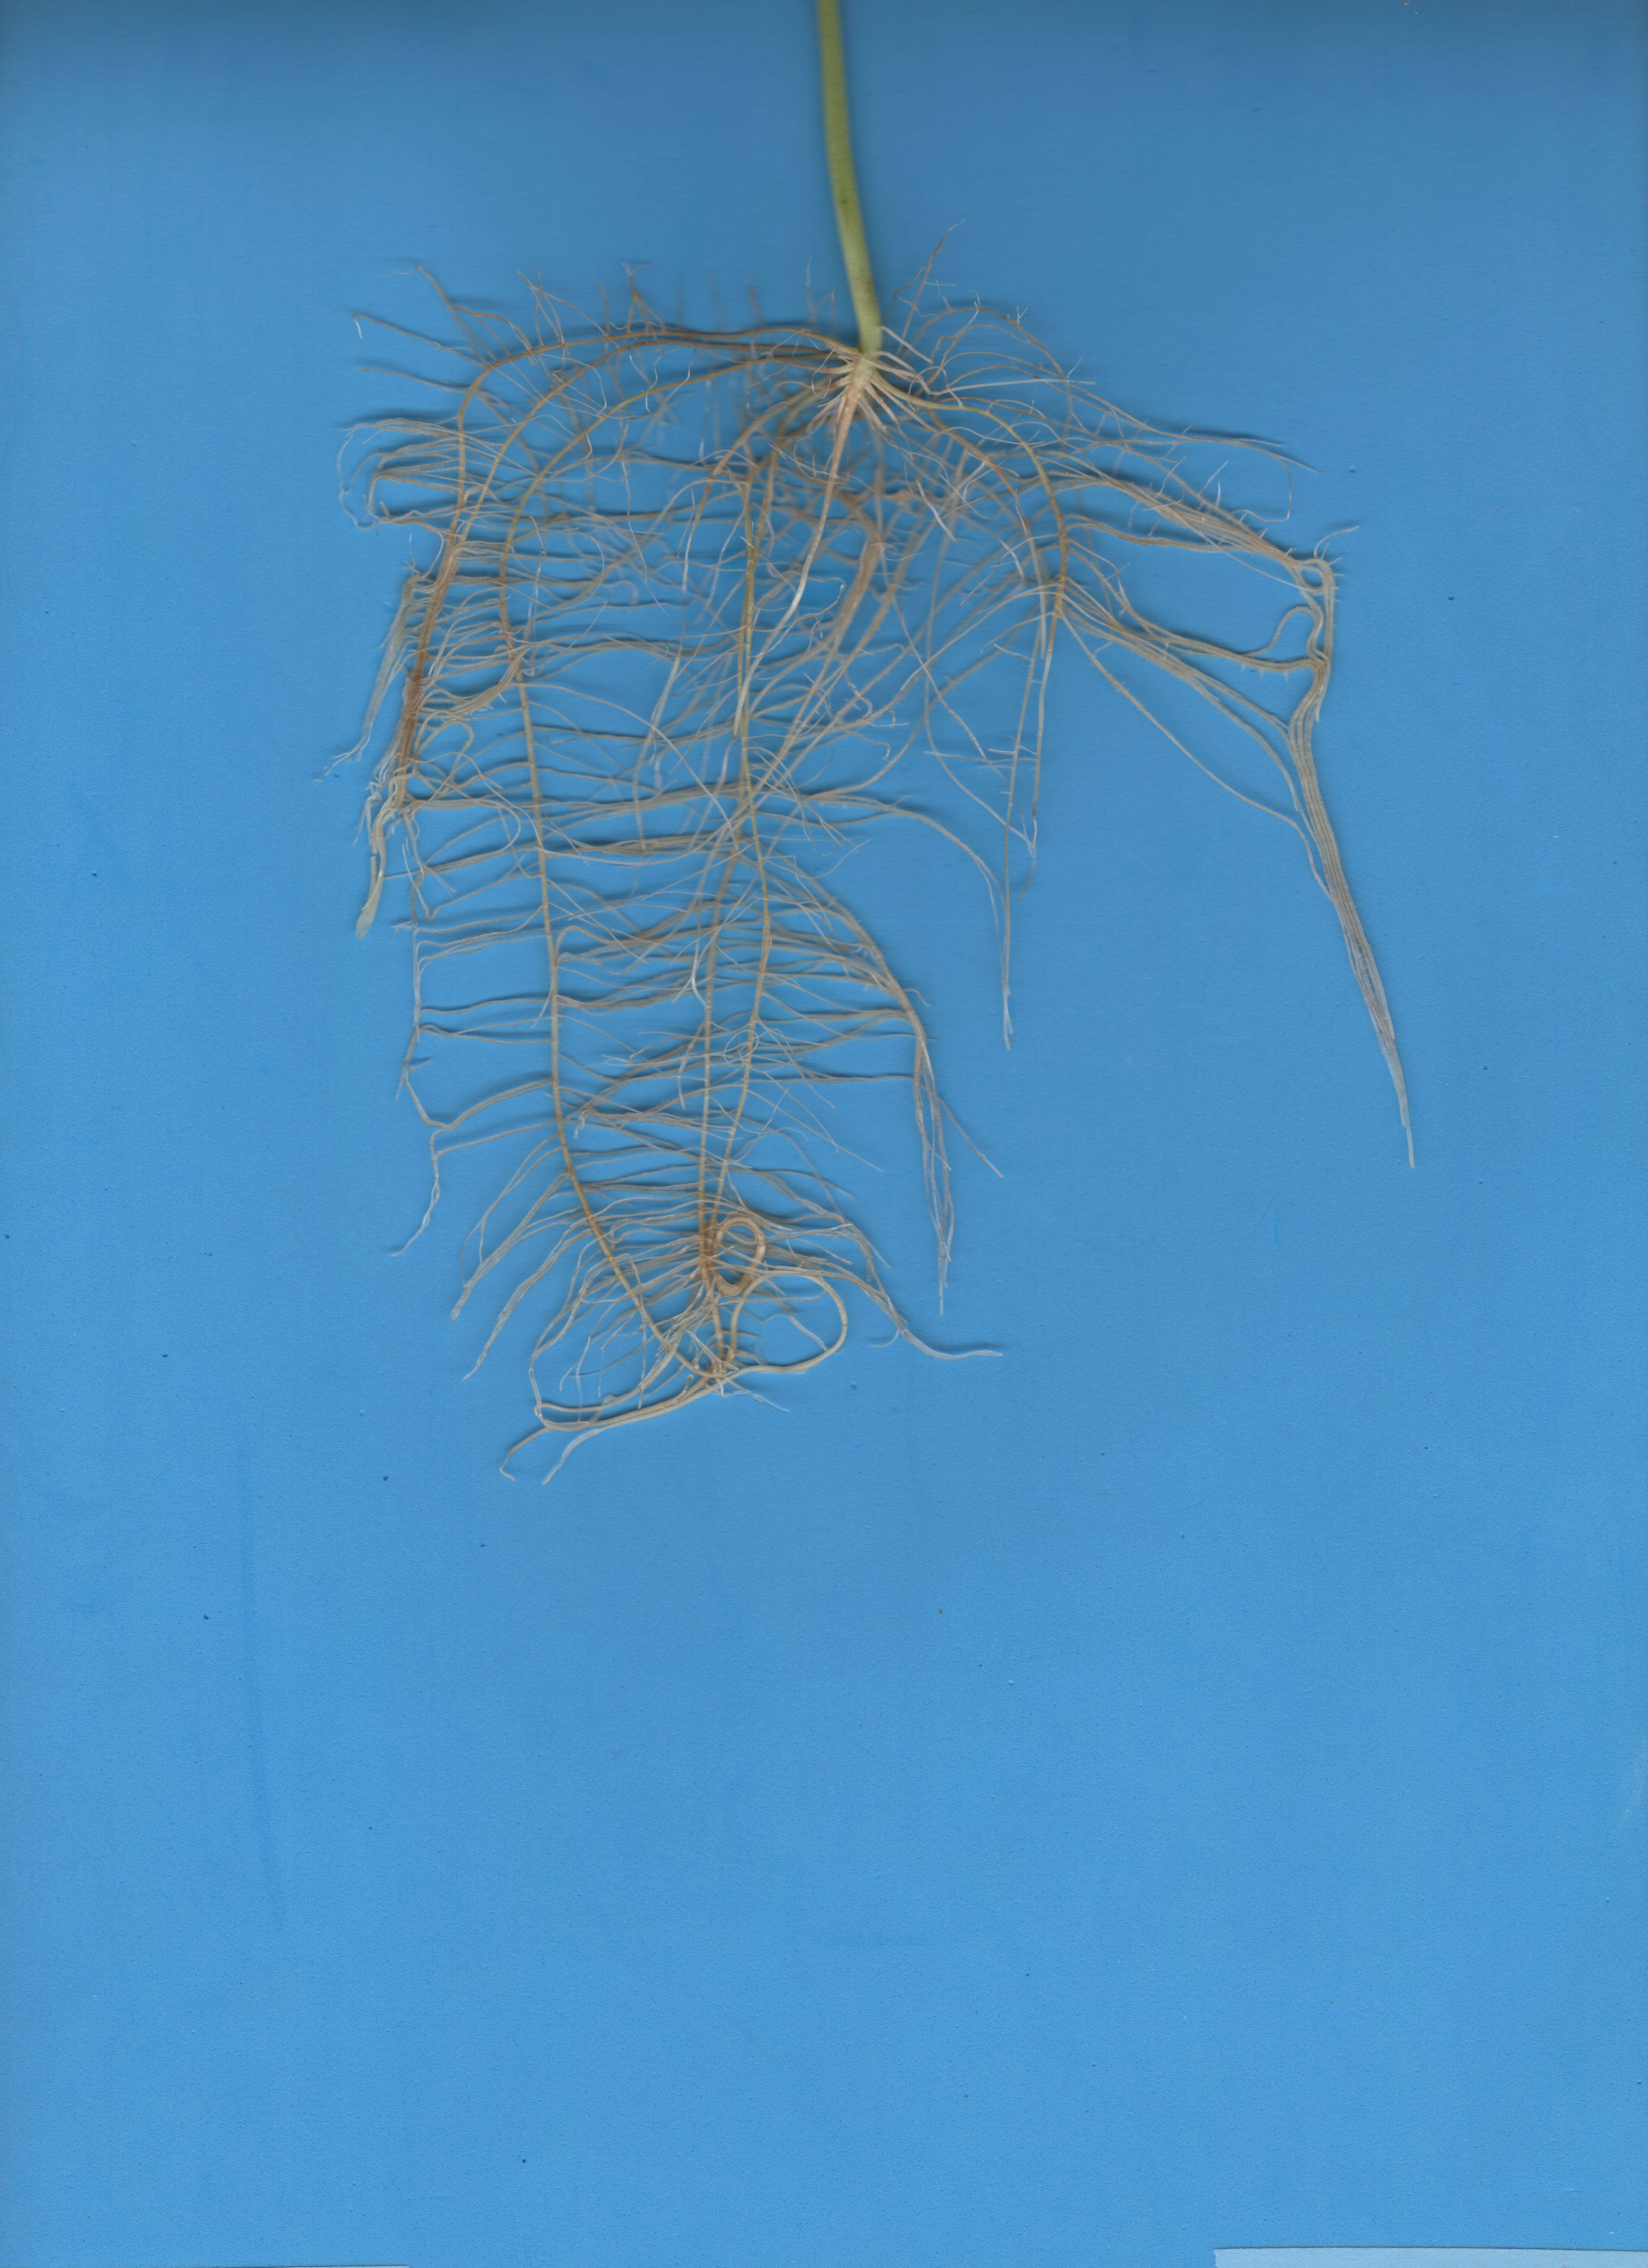CROWNGOOD: (732, 11, 937, 403)
ROOTGOOD: (268, 291, 1482, 1481)
